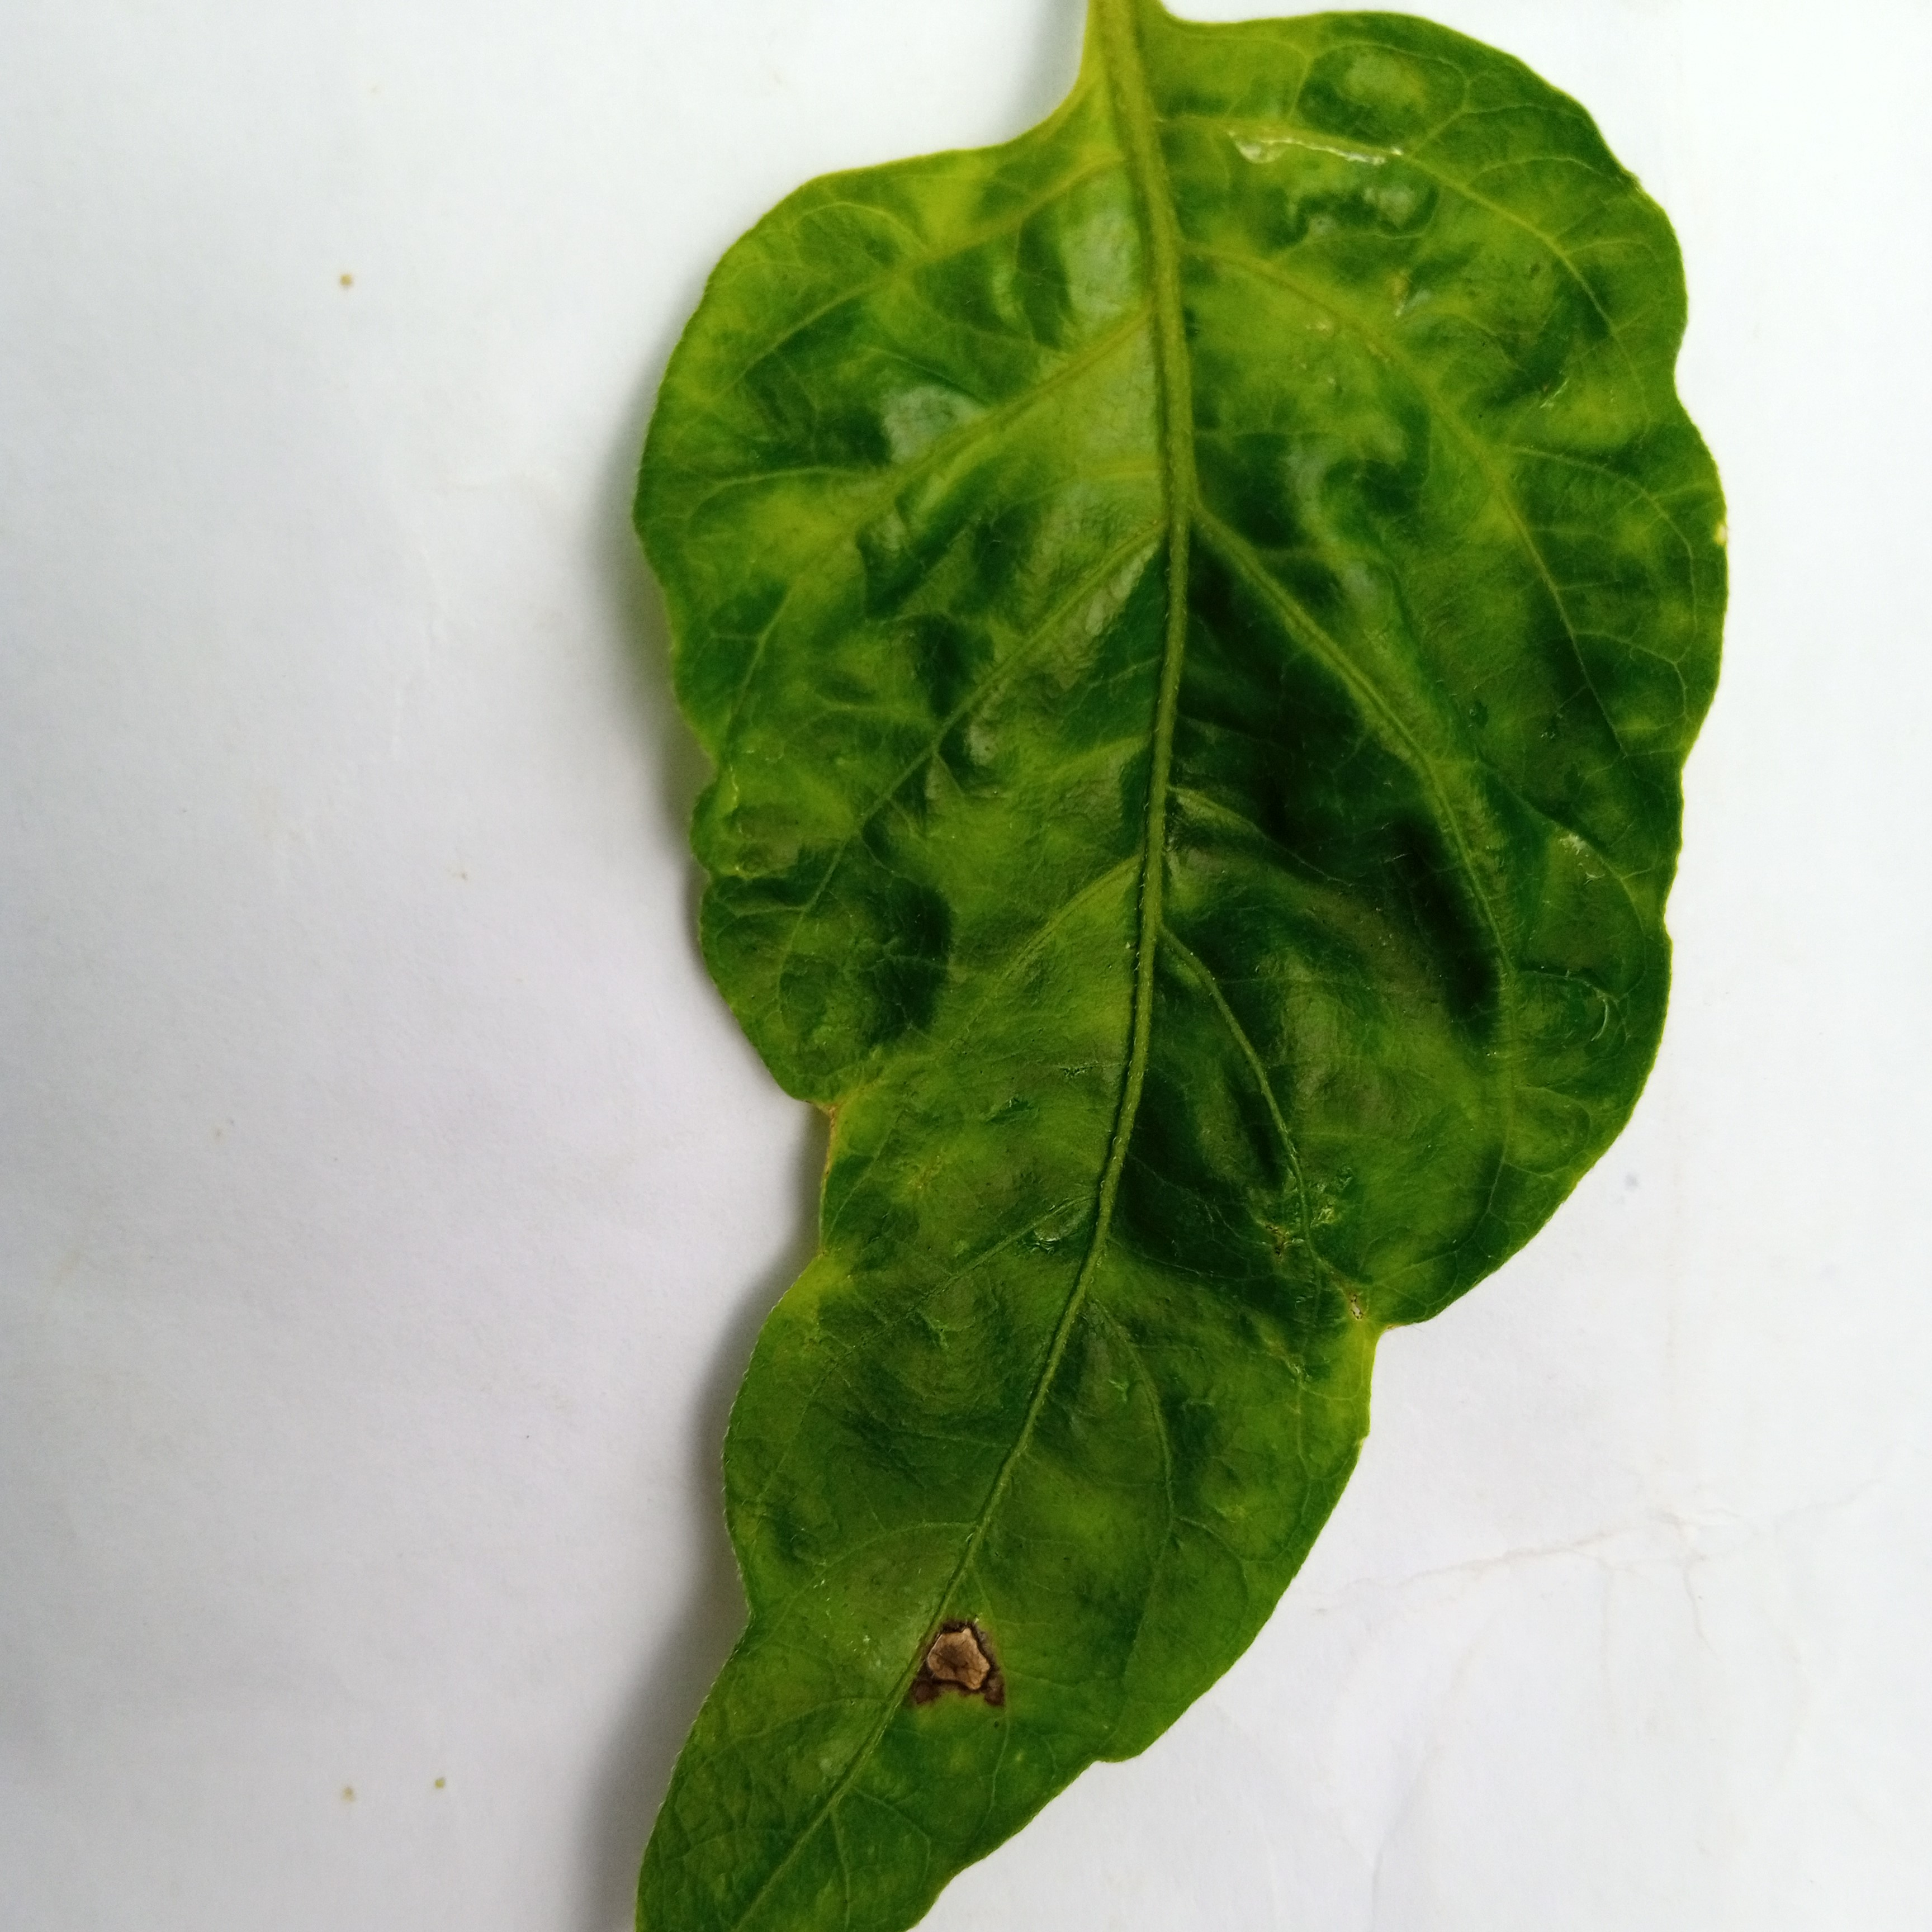Leaf: (375, 5, 1789, 1932)
